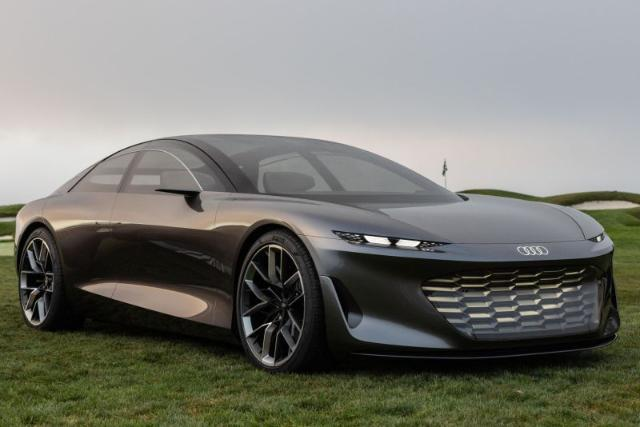audi: (14, 133, 622, 373)
